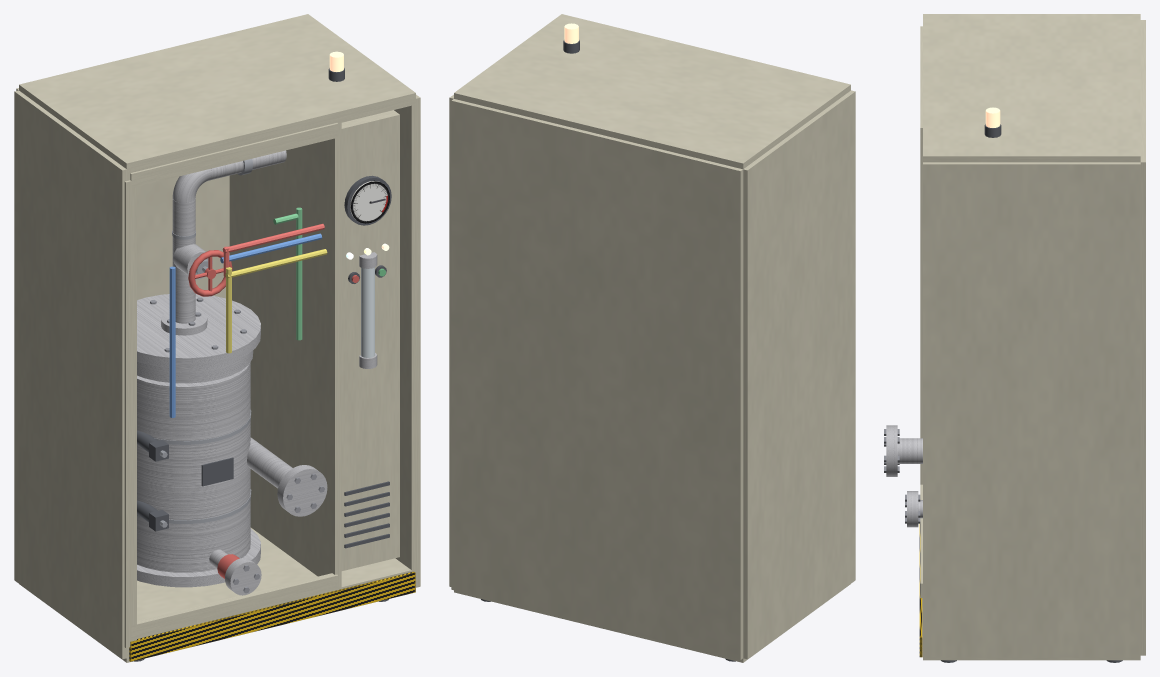
Rendered from unitC.glb.
3 views of the same model, side by side, from view 1: azimuth 30°, elevation 25°; view 2: azimuth 150°, elevation 25°; view 3: azimuth 270°, elevation 25° (orthographic).
Visible parts, largest first — view 1: cabinet, control_panel, vessel, vessel_lid, wiring, riser_pipe, outlet_pipe, gauge, flow_meter, valve, drain_pipe, sensor (+1 smaller); view 2: cabinet; view 3: cabinet, outlet_pipe, drain_pipe.
Boxes of the visible parts, x1,y1,x2,y2 form: cabinet: (14, 14, 420, 662); control_panel: (341, 110, 399, 570); vessel: (137, 362, 260, 587); vessel_lid: (137, 294, 260, 383); wiring: (169, 207, 327, 417); riser_pipe: (161, 169, 211, 335); outlet_pipe: (247, 437, 327, 516); gauge: (344, 175, 391, 225); flow_meter: (359, 252, 377, 368); valve: (173, 244, 232, 296); drain_pipe: (209, 549, 261, 595); sensor: (137, 430, 168, 531); cabinet: (449, 14, 855, 662); cabinet: (919, 14, 1145, 662); outlet_pipe: (884, 425, 922, 476); drain_pipe: (905, 491, 922, 527).
Size of what is drawn, in the model's own units: 1.34 by 2.29 by 1.01.
20 materials, 4 textured.
